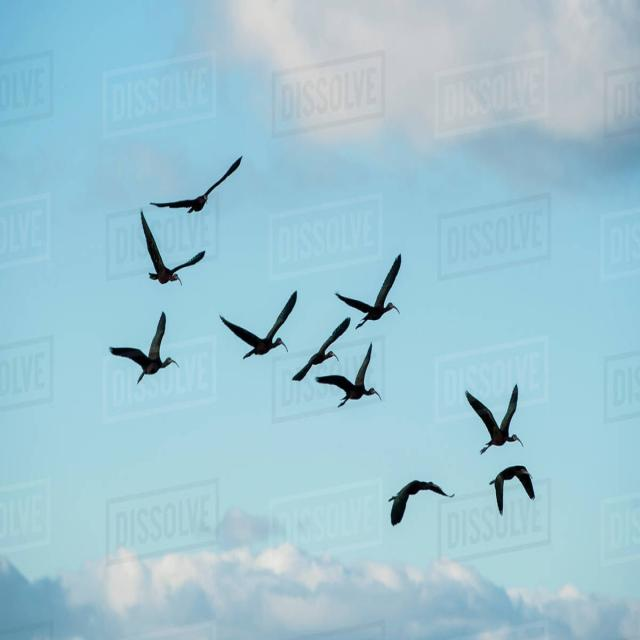bird: (148, 155, 243, 217), (220, 286, 299, 359), (138, 213, 207, 290), (336, 252, 404, 328), (110, 309, 179, 383), (317, 340, 379, 408), (465, 386, 524, 455), (294, 315, 352, 381), (390, 480, 454, 528), (488, 464, 535, 518)
